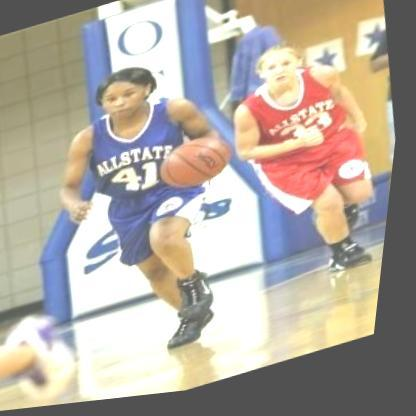basketball: (155, 129, 243, 201)
